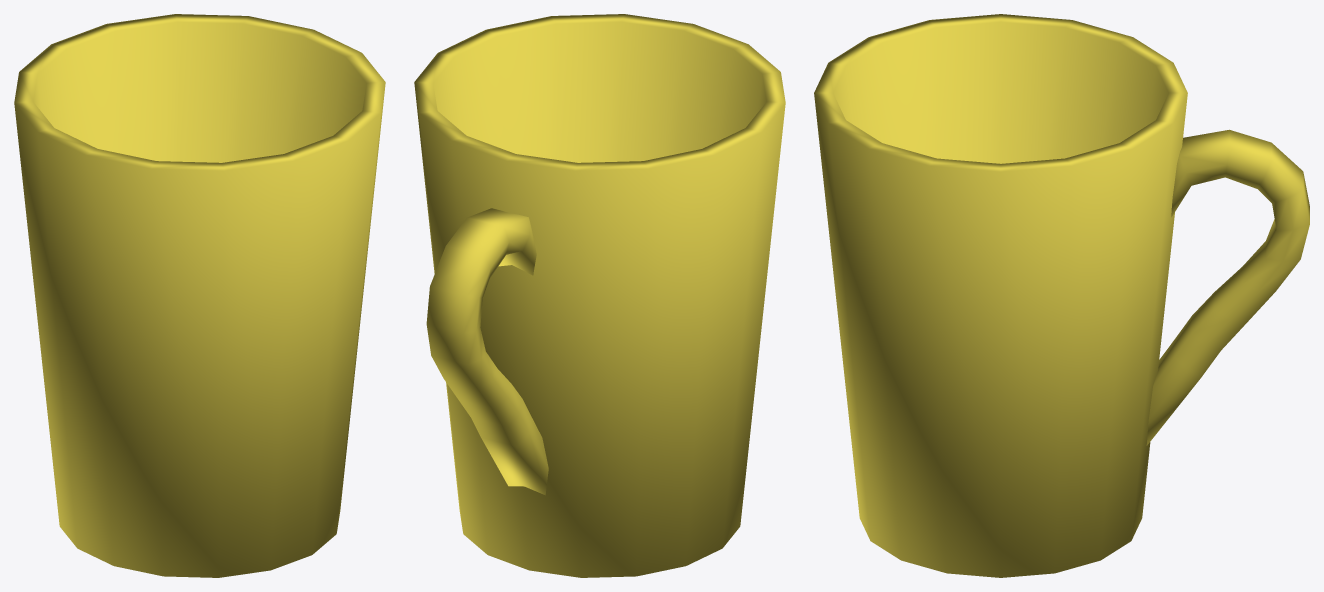
File: Tasse.fbx
3 views of the same model, side by side, from view 1: azimuth 30°, elevation 25°; view 2: azimuth 150°, elevation 25°; view 3: azimuth 270°, elevation 25° (orthographic).
Visible parts, largest first — view 1: Tasse; view 2: Tasse; view 3: Tasse.
Part boxes in pixels (left/top/right/bottom): Tasse: left=14, top=14, right=385, bottom=577; Tasse: left=414, top=14, right=785, bottom=577; Tasse: left=814, top=14, right=1309, bottom=577.
Bounding box in the file's own units: 10.76 × 13.51 × 14.28.
